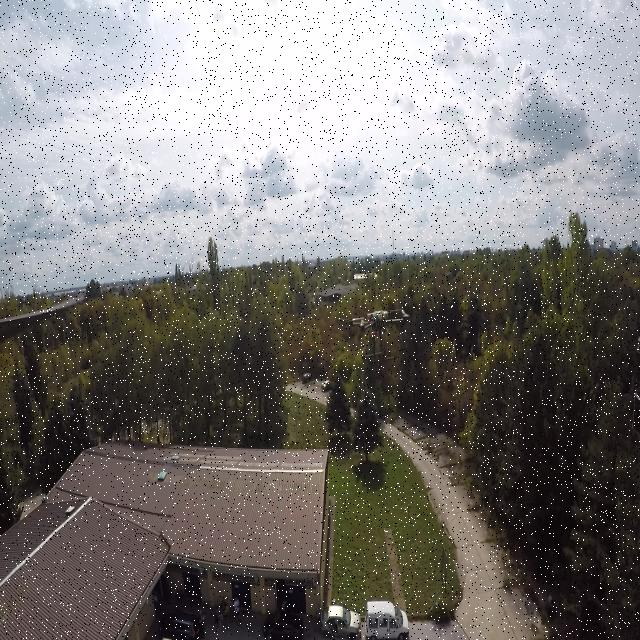UAV: (338, 303, 410, 366)
